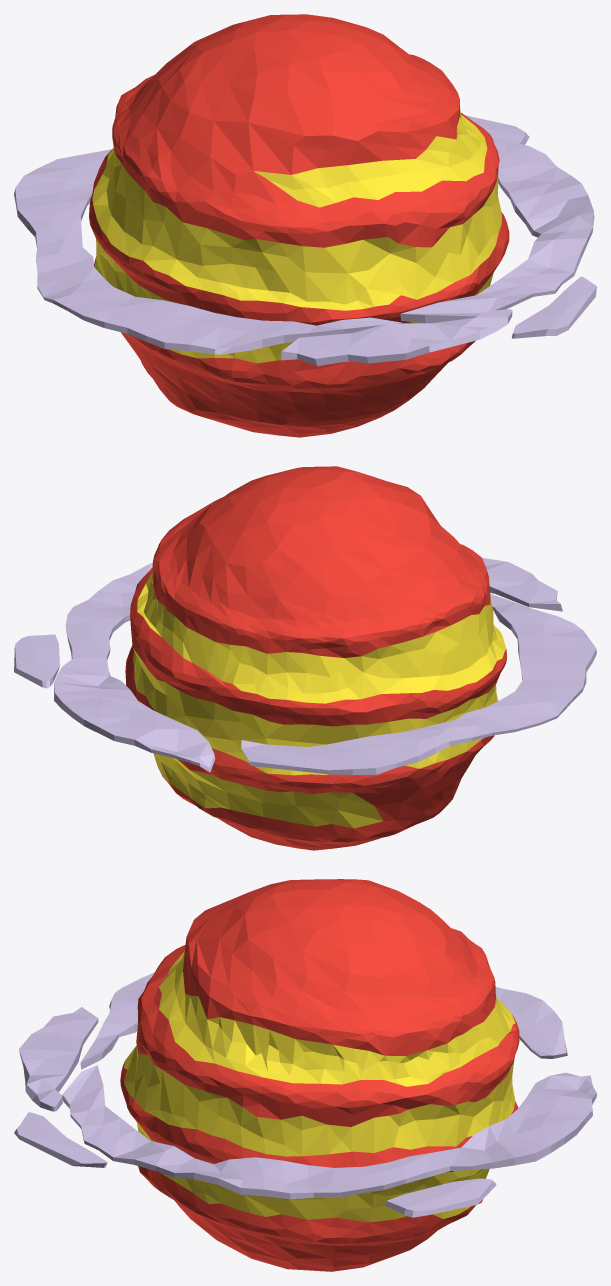
File: Planet_42.glb
3 renders of one model, top to bottom at view 1: azimuth 30°, elevation 25°; view 2: azimuth 150°, elevation 25°; view 3: azimuth 270°, elevation 25°, orthographic. The views are drawn at different scales.
Parts seen in each view (by area): view 1: Planet_42; view 2: Planet_42; view 3: Planet_42.
Boxes of the visible parts, x1,y1,x2,y2 form: Planet_42: [14, 14, 596, 437]; Planet_42: [14, 466, 596, 850]; Planet_42: [14, 879, 596, 1271].
Bounding box in the file's own units: 29.31 × 20.04 × 28.99.
1 material, 1 textured.
